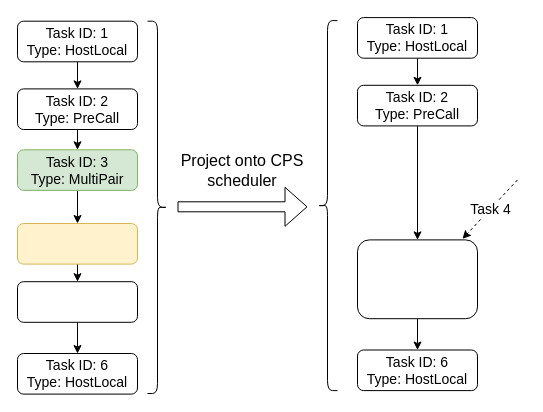
This 543x412 diagram has some shape labels left out. Here are the shapes that lost their labels. From the top down, the centre of each, then its label:
At (77,243): "Task ID: 4 Type: MPCallback".
At (417,279): "Task ID: 5 Type: PostCall Ext. dep: 4".
At (77,301): "Task ID: 5 Type: PostCall".
